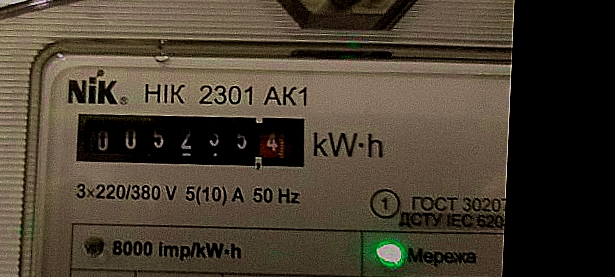0: (94, 125, 110, 151), (122, 125, 138, 149)
2: (177, 123, 194, 150)
3: (204, 121, 222, 147)
4: (262, 124, 281, 154)
5: (232, 122, 249, 150), (150, 123, 165, 149)
screen: (62, 96, 315, 179)
